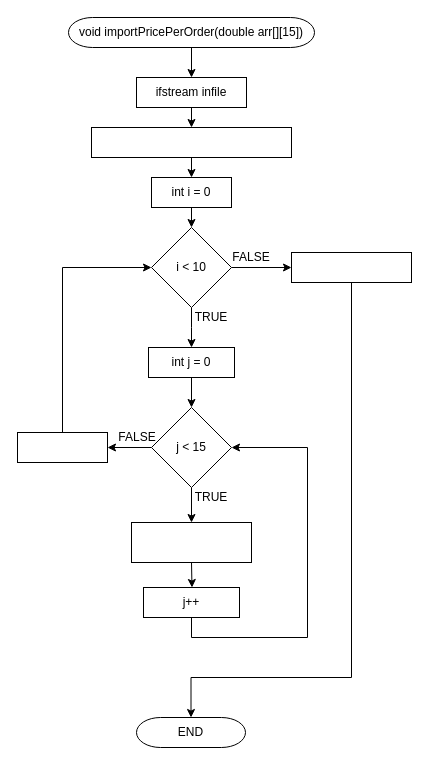
The diagram is 429 pixels wide and 765 high, and some of its shapes have lost their labels. The shapes that lost their labels are listed below. From the top down, each one's box as (x1, y1, x2, y2) in pixels, then its label:
(90, 126, 292, 158): infile.open("totalperorder.txt")
(290, 252, 412, 282): infile.close()
(16, 432, 108, 462): i++
(130, 522, 252, 562): infile >> arr[i][j]
